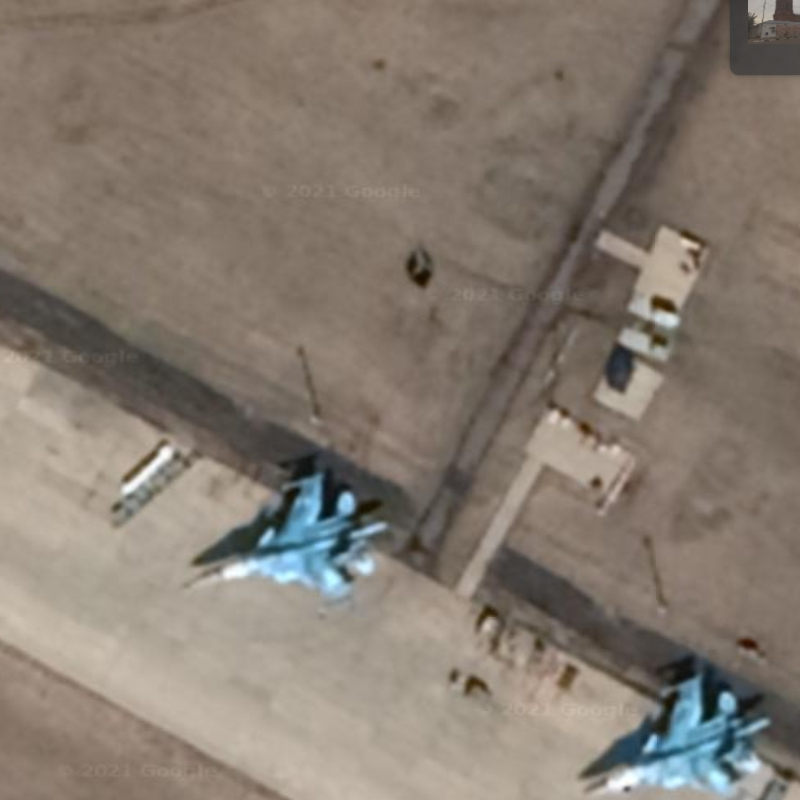A19: (175, 469, 390, 616), (577, 670, 777, 800)
